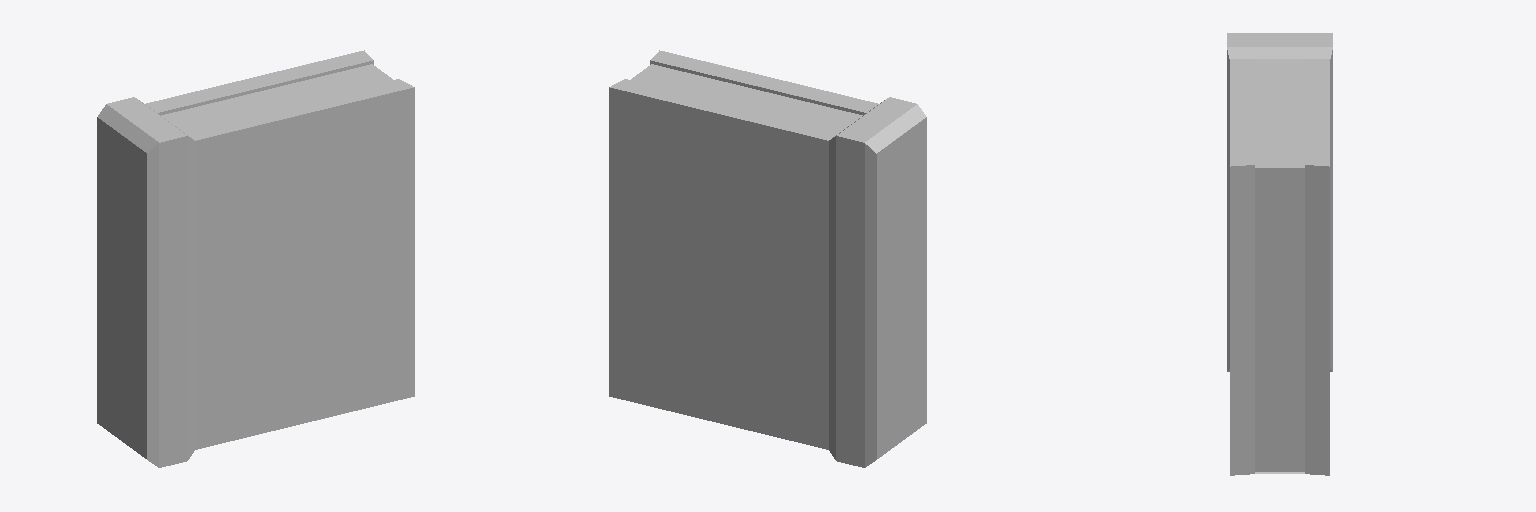
File: book.obj
3 renders of one model, left to right at view 1: azimuth 30°, elevation 25°; view 2: azimuth 150°, elevation 25°; view 3: azimuth 270°, elevation 25°, orthographic.
Visible parts, largest first — view 1: Cube.001, Cube; view 2: Cube.001, Cube; view 3: Cube.001, Cube.
Boxes of the visible parts, x1,y1,x2,y2 form: Cube.001: [97, 50, 414, 467]; Cube: [161, 64, 392, 131]; Cube.001: [609, 50, 926, 467]; Cube: [631, 64, 862, 131]; Cube.001: [1227, 33, 1332, 475]; Cube: [1255, 64, 1304, 471].
Size of the model in its own units: 4.47 by 5.2 by 1.54.